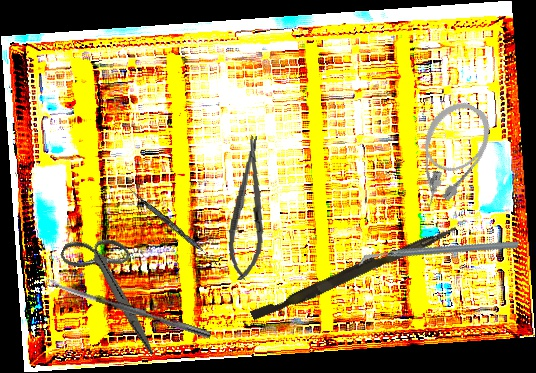Cannula: (393, 92, 502, 219)
Chopper: (358, 193, 520, 314)
Iris Scissors: (37, 220, 191, 357)
Needle Holder: (224, 134, 273, 282)
Pusher: (250, 217, 458, 327)
Spatula Surgical: (127, 188, 221, 266)
Surgical Spoon: (44, 277, 213, 339)
